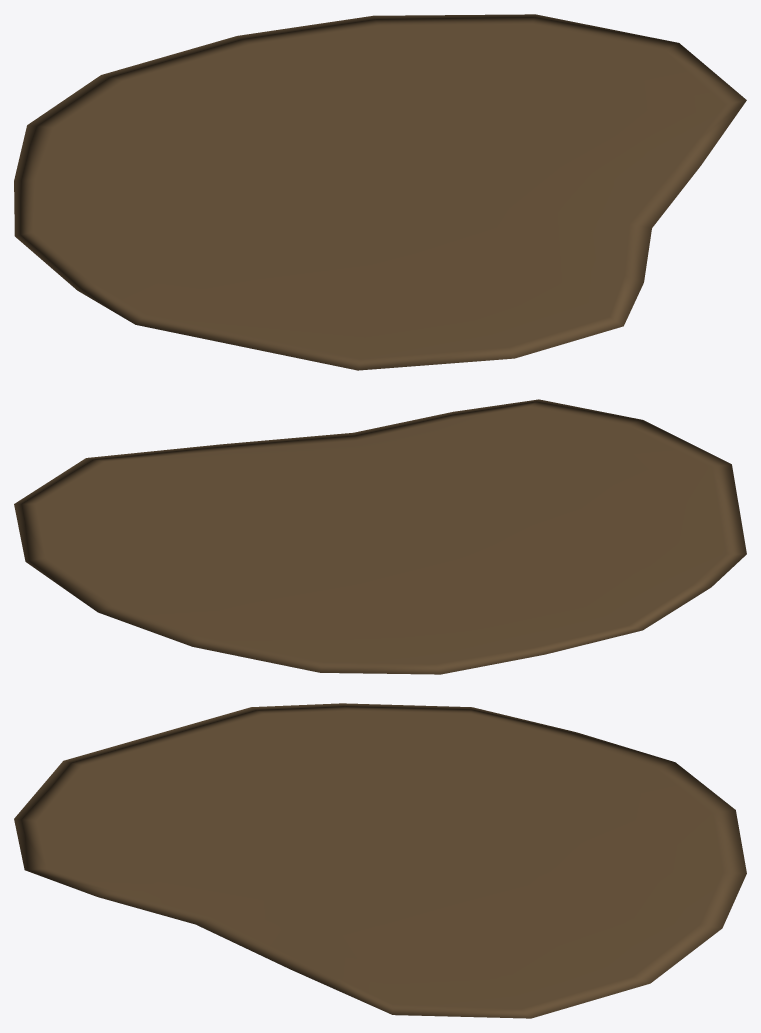
Rendered from Dirt Patch Large.fbx.
3 views of the same model, one above another, from view 1: azimuth 30°, elevation 25°; view 2: azimuth 150°, elevation 25°; view 3: azimuth 270°, elevation 25° (orthographic). The views are drawn at different scales.
Visible parts, largest first — view 1: pCube137; view 2: pCube137; view 3: pCube137.
Boxes of the visible parts, <box> form: pCube137: <box>14,14,746,370</box>; pCube137: <box>14,399,746,674</box>; pCube137: <box>14,703,746,1018</box>.
Bounding box in the file's own units: 246 × 1.59 × 242.
